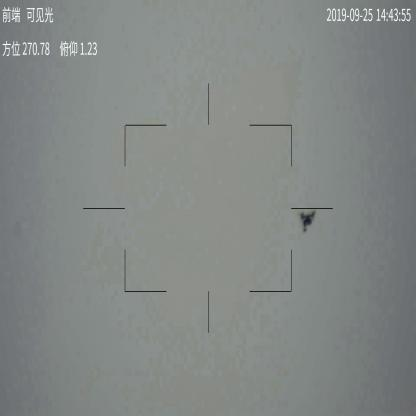uav: (298, 208, 320, 233)
